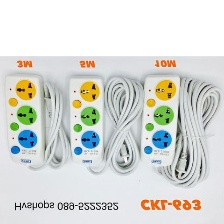three_eye_plug: (64, 71, 116, 170), (135, 71, 186, 170), (2, 69, 49, 171)
